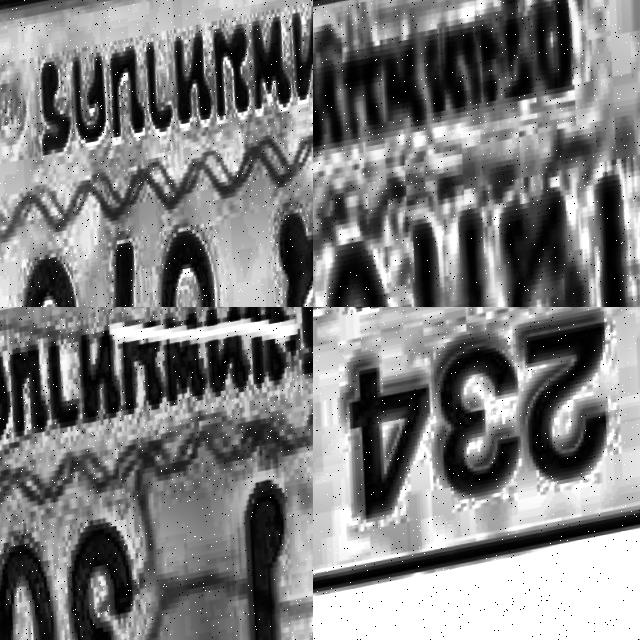license-plate: (0, 307, 313, 640), (313, 0, 640, 307), (313, 307, 640, 613), (0, 0, 313, 307)
